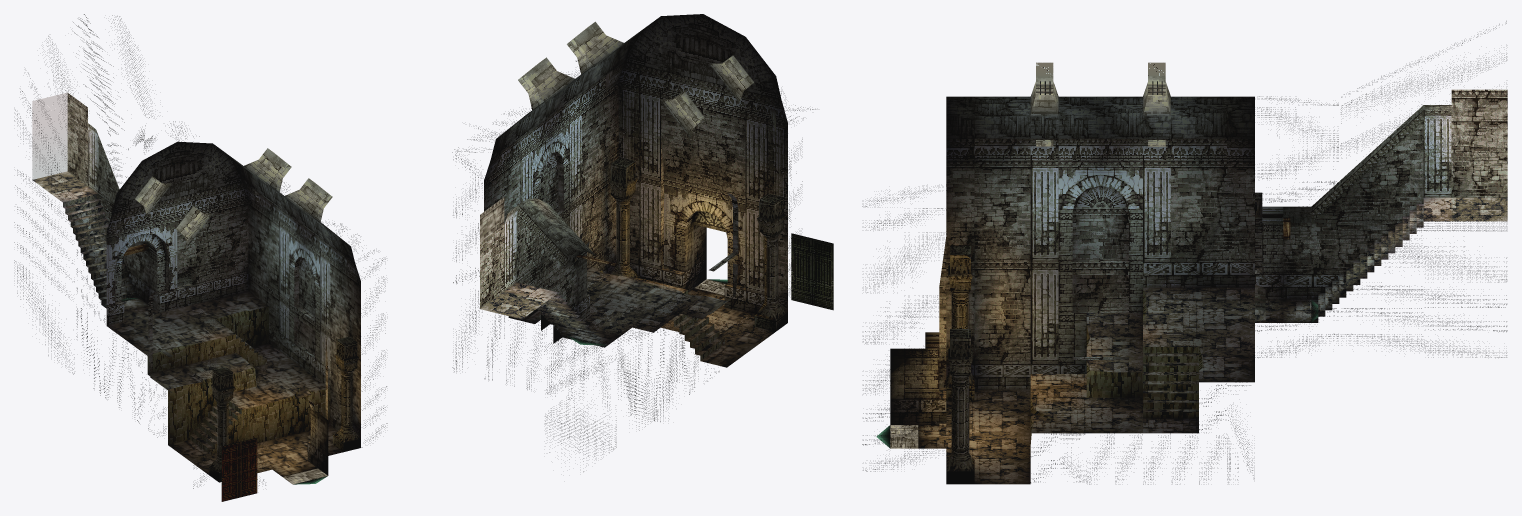
Rendered from MAP057.gltf.
3 views of the same model, side by side, from view 1: azimuth 30°, elevation 25°; view 2: azimuth 150°, elevation 25°; view 3: azimuth 270°, elevation 25° (orthographic). The views are drawn at different scales.
Size of the model in its own units: 141 by 208 by 294.
65 materials, 65 textured.
